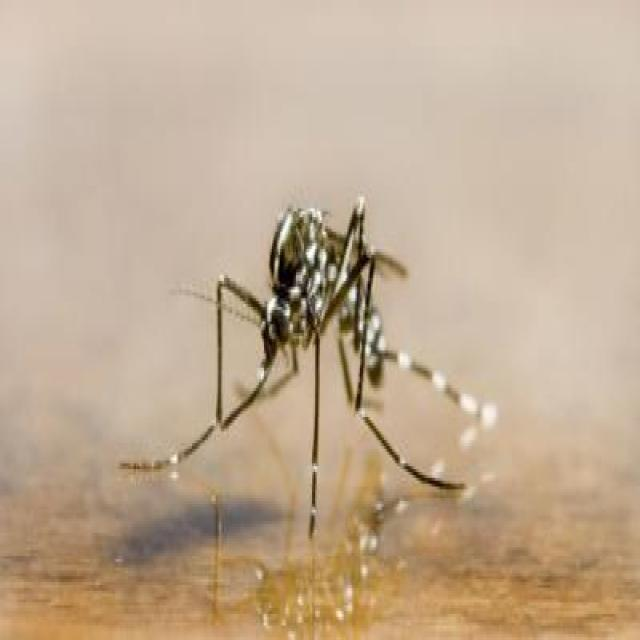body: (266, 208, 388, 384)
insect: (119, 183, 493, 542)
legs: (343, 199, 496, 512), (120, 275, 264, 493), (306, 342, 334, 558)
wings: (324, 212, 409, 284)
